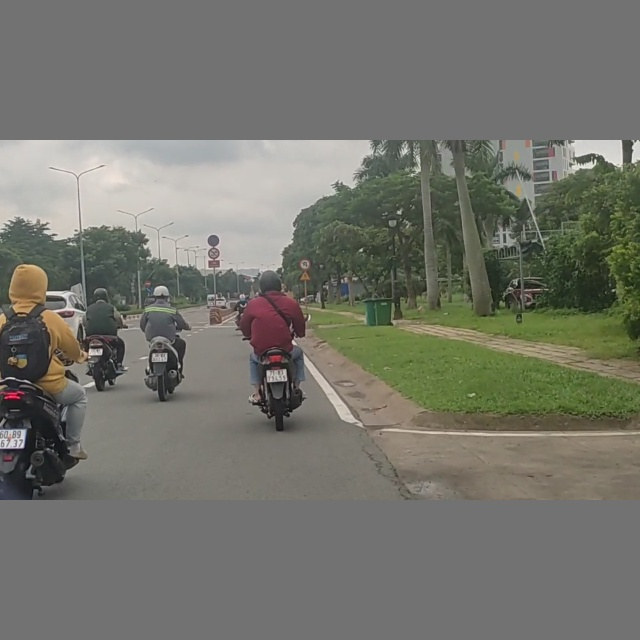P.102: (144, 280, 152, 287)
P.111: (208, 247, 219, 259)
P.124a*: (299, 258, 311, 270)
P.130: (208, 235, 219, 246)
R.302a: (145, 286, 152, 293)
W.224: (299, 271, 312, 281)
